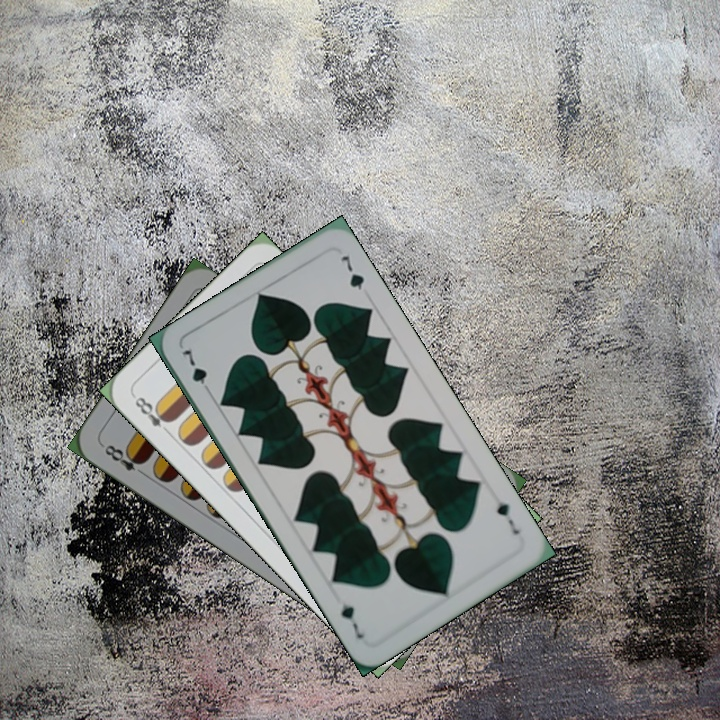E8: (129, 391, 175, 438), (100, 440, 150, 480)
G7: (178, 345, 215, 398), (492, 497, 523, 538)
